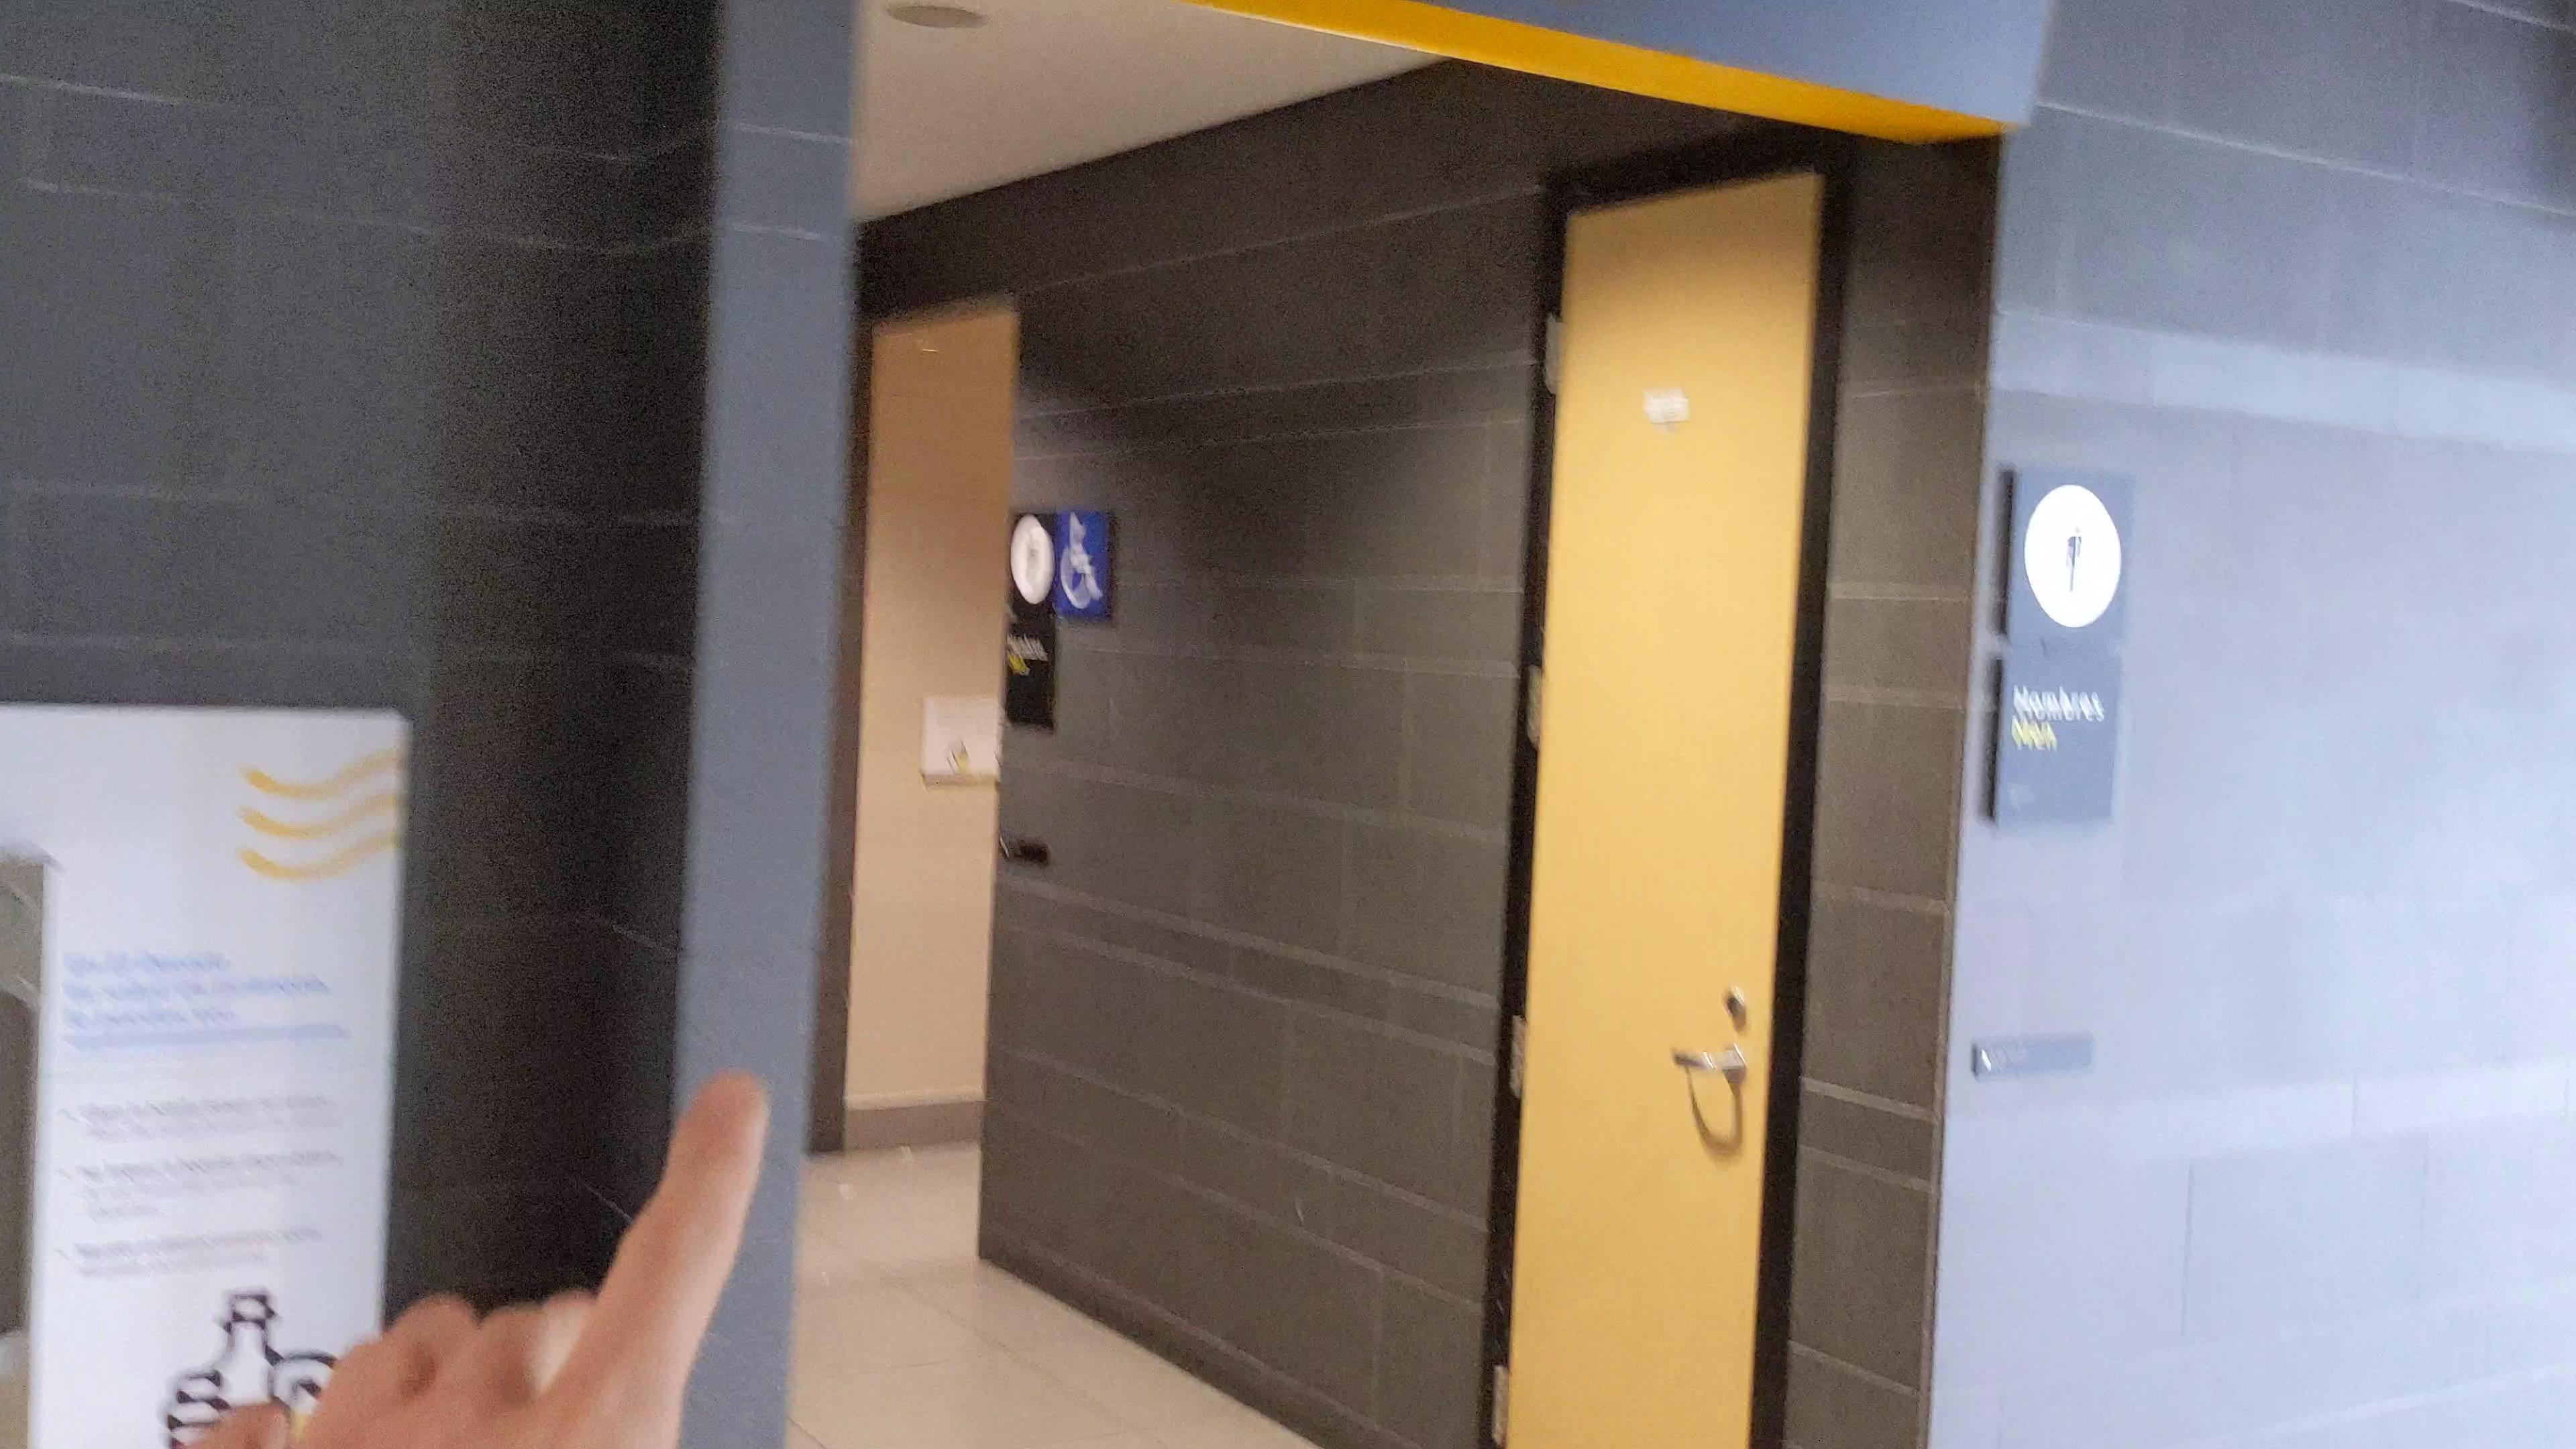handicapped symbol: (1060, 513, 1104, 612)
